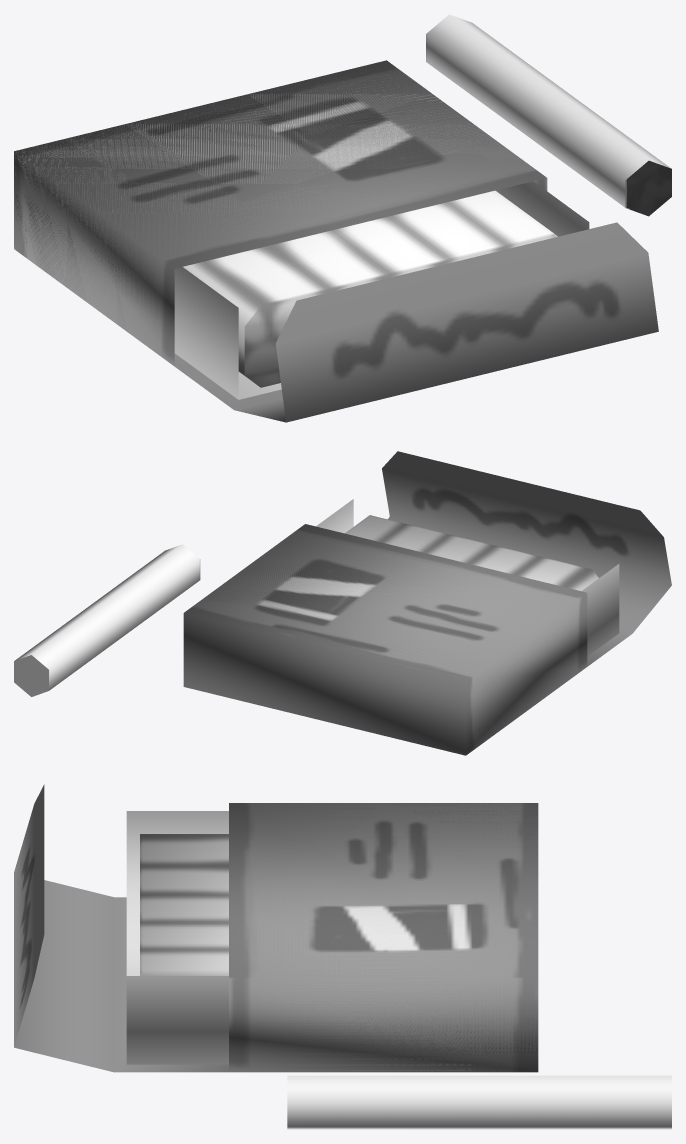
File: obj_Cigarettes.fbx
3 renders of one model, top to bottom at view 1: azimuth 30°, elevation 25°; view 2: azimuth 150°, elevation 25°; view 3: azimuth 270°, elevation 25°, orthographic. The views are drawn at different scales.
Parts seen in each view (by area): view 1: obj_Cigarettes, obj_Cigarette; view 2: obj_Cigarettes, obj_Cigarette; view 3: obj_Cigarettes, obj_Cigarette.
Boxes of the visible parts, box(x1,y1,x2,y2) form: obj_Cigarettes: box(14, 60, 658, 422); obj_Cigarette: box(426, 14, 671, 216); obj_Cigarettes: box(183, 451, 671, 755); obj_Cigarette: box(14, 544, 200, 696); obj_Cigarettes: box(14, 784, 538, 1072); obj_Cigarette: box(287, 1075, 671, 1129).
Size of the model in its own units: 0.1566 by 0.0369 by 0.1756.
1 material, 1 textured.
